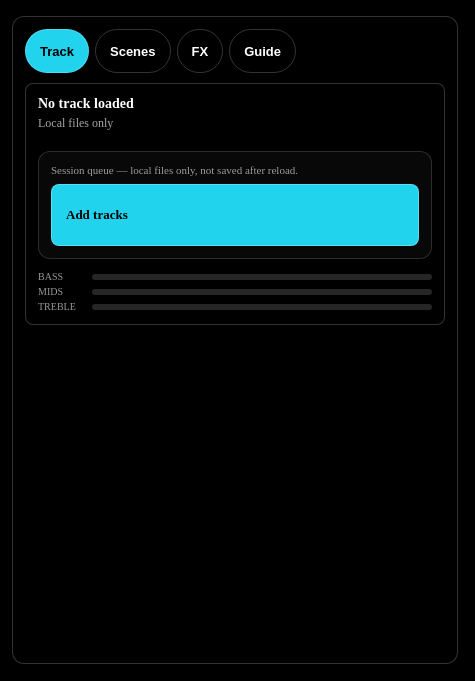
Test: SidePanel scenes tab › shows the scene list after clicking Scenes
Click the tab with test id "side-tab-scenes" at [133, 51], box [95, 29, 170, 73]
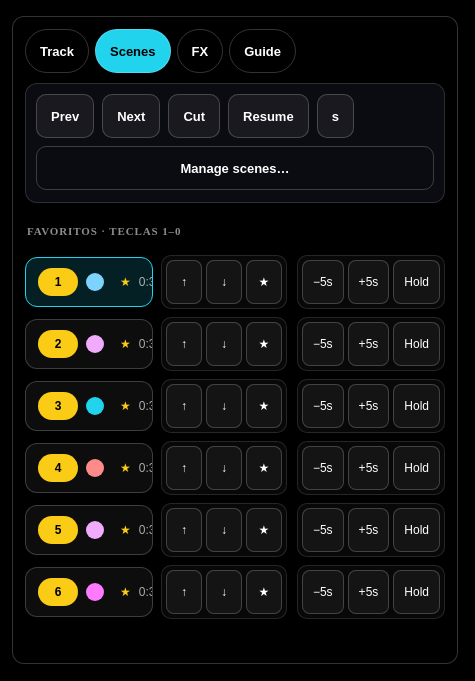
Result: the list with test id "scene-list" is shown at [25, 255, 445, 619]
